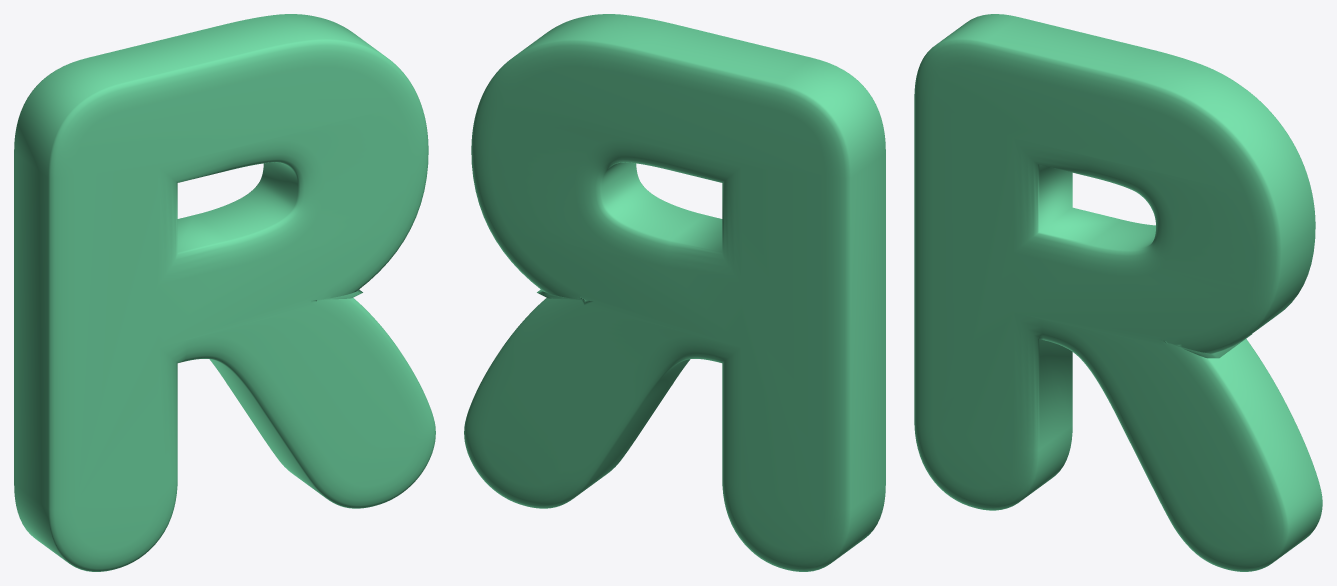
The model's file is RA_Letter_R.fbx.
The picture shows the model from 3 angles, left to right: view 1: azimuth 30°, elevation 25°; view 2: azimuth 150°, elevation 25°; view 3: azimuth 330°, elevation 25°; orthographic projection. The views are drawn at different scales.
Visible parts, largest first — view 1: RA_Letter_R; view 2: RA_Letter_R; view 3: RA_Letter_R.
Boxes of the visible parts, left/top/right/bottom form: RA_Letter_R: left=14, top=14, right=435, bottom=571; RA_Letter_R: left=464, top=14, right=885, bottom=571; RA_Letter_R: left=914, top=14, right=1322, bottom=571.
Bounding box in the file's own units: 151 × 180 × 28.
